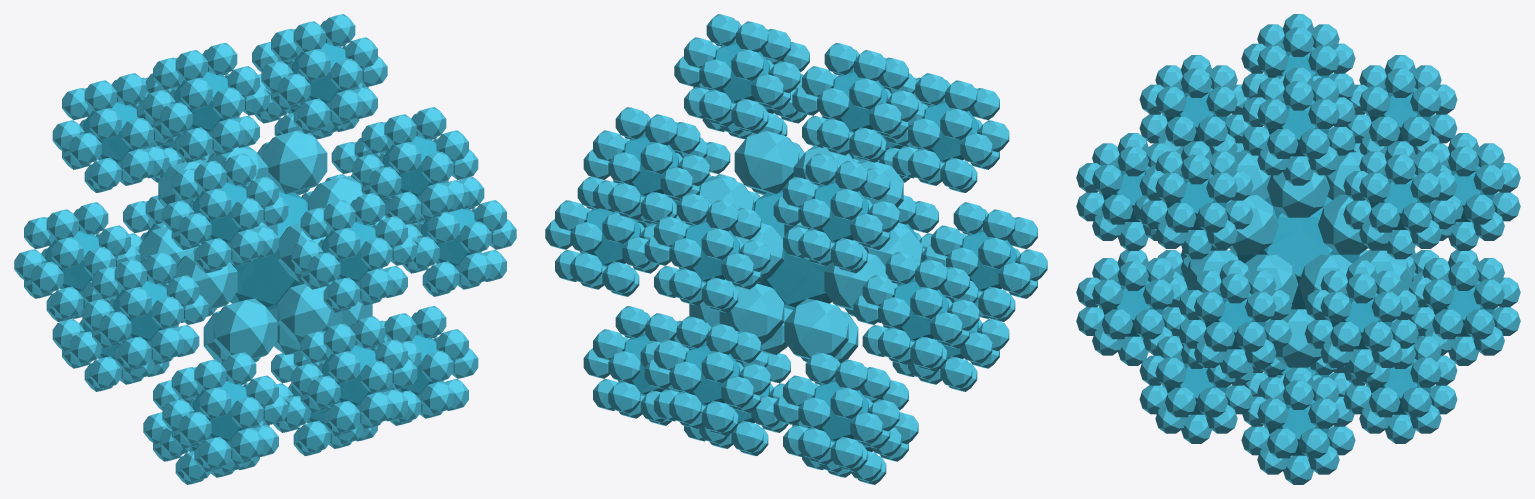
File: fractalicosidodecahedron2.glb
3 views of the same model, side by side, from view 1: azimuth 30°, elevation 25°; view 2: azimuth 150°, elevation 25°; view 3: azimuth 270°, elevation 25° (orthographic). The views are drawn at different scales.
Bounding box in the file's own units: 11.02 × 11.02 × 11.02.
